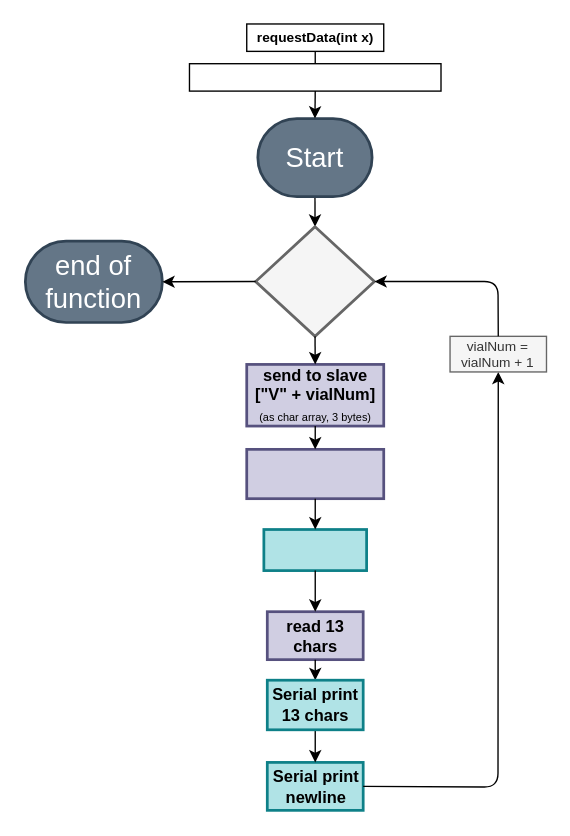
Some shapes in this 570 by 836 pixel diagram are drawn without their labels. The box of each missing label's shape, as (x1, y1, x2, y2) in pixels:
for numVials in slave[x]: (254, 225, 375, 337)
request 13 bytes from slave: (245, 447, 384, 499)
Serial print slaveName: (262, 527, 367, 571)
x is the index of the slave in arr_slaves: (188, 62, 441, 91)
